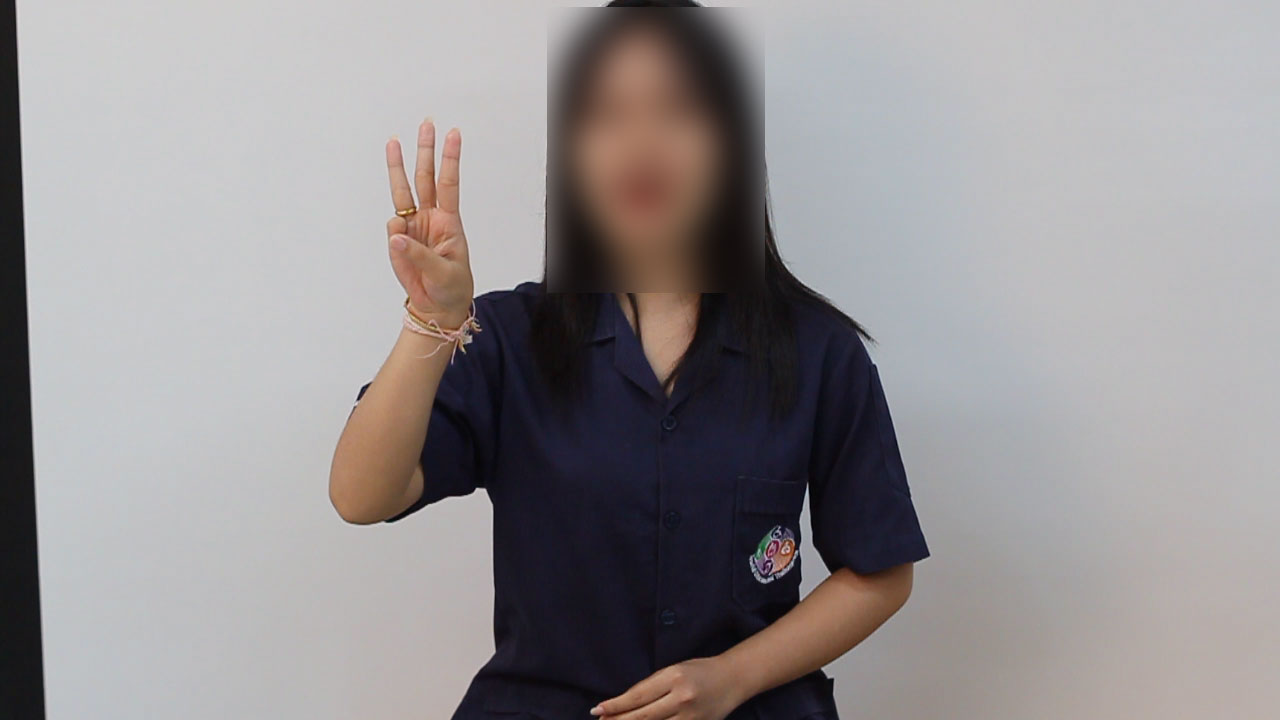wor: (375, 110, 489, 336)
